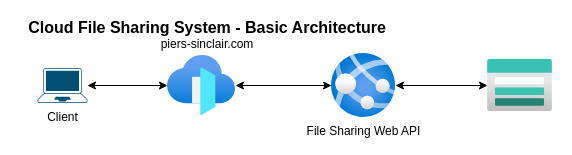
The diagram is 572 pixels wide and 155 high, and some of its shapes have lost their labels. Here are the shapes that lost their labels. From the top down, the centre of each, then its label:
pixel 201 85: Front Door Load Balancer
pixel 519 85: Blob Storage
